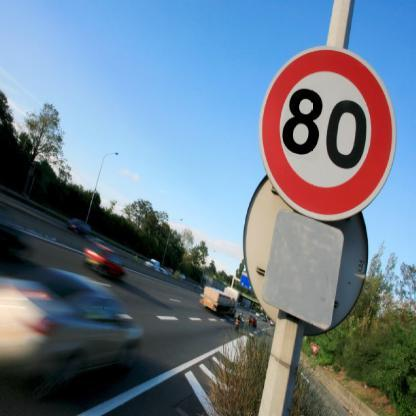Speed Limit 80: (266, 49, 390, 213)
